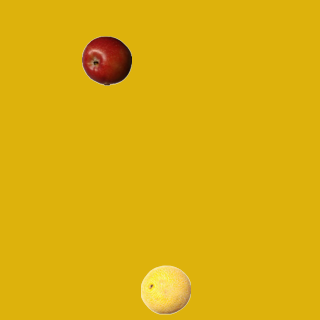Apple Braeburn: (81, 35, 131, 85)
Cantaloupe 1: (140, 264, 190, 314)
